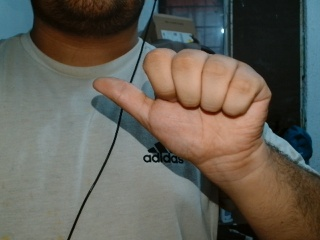Derecha: (83, 38, 281, 180)
